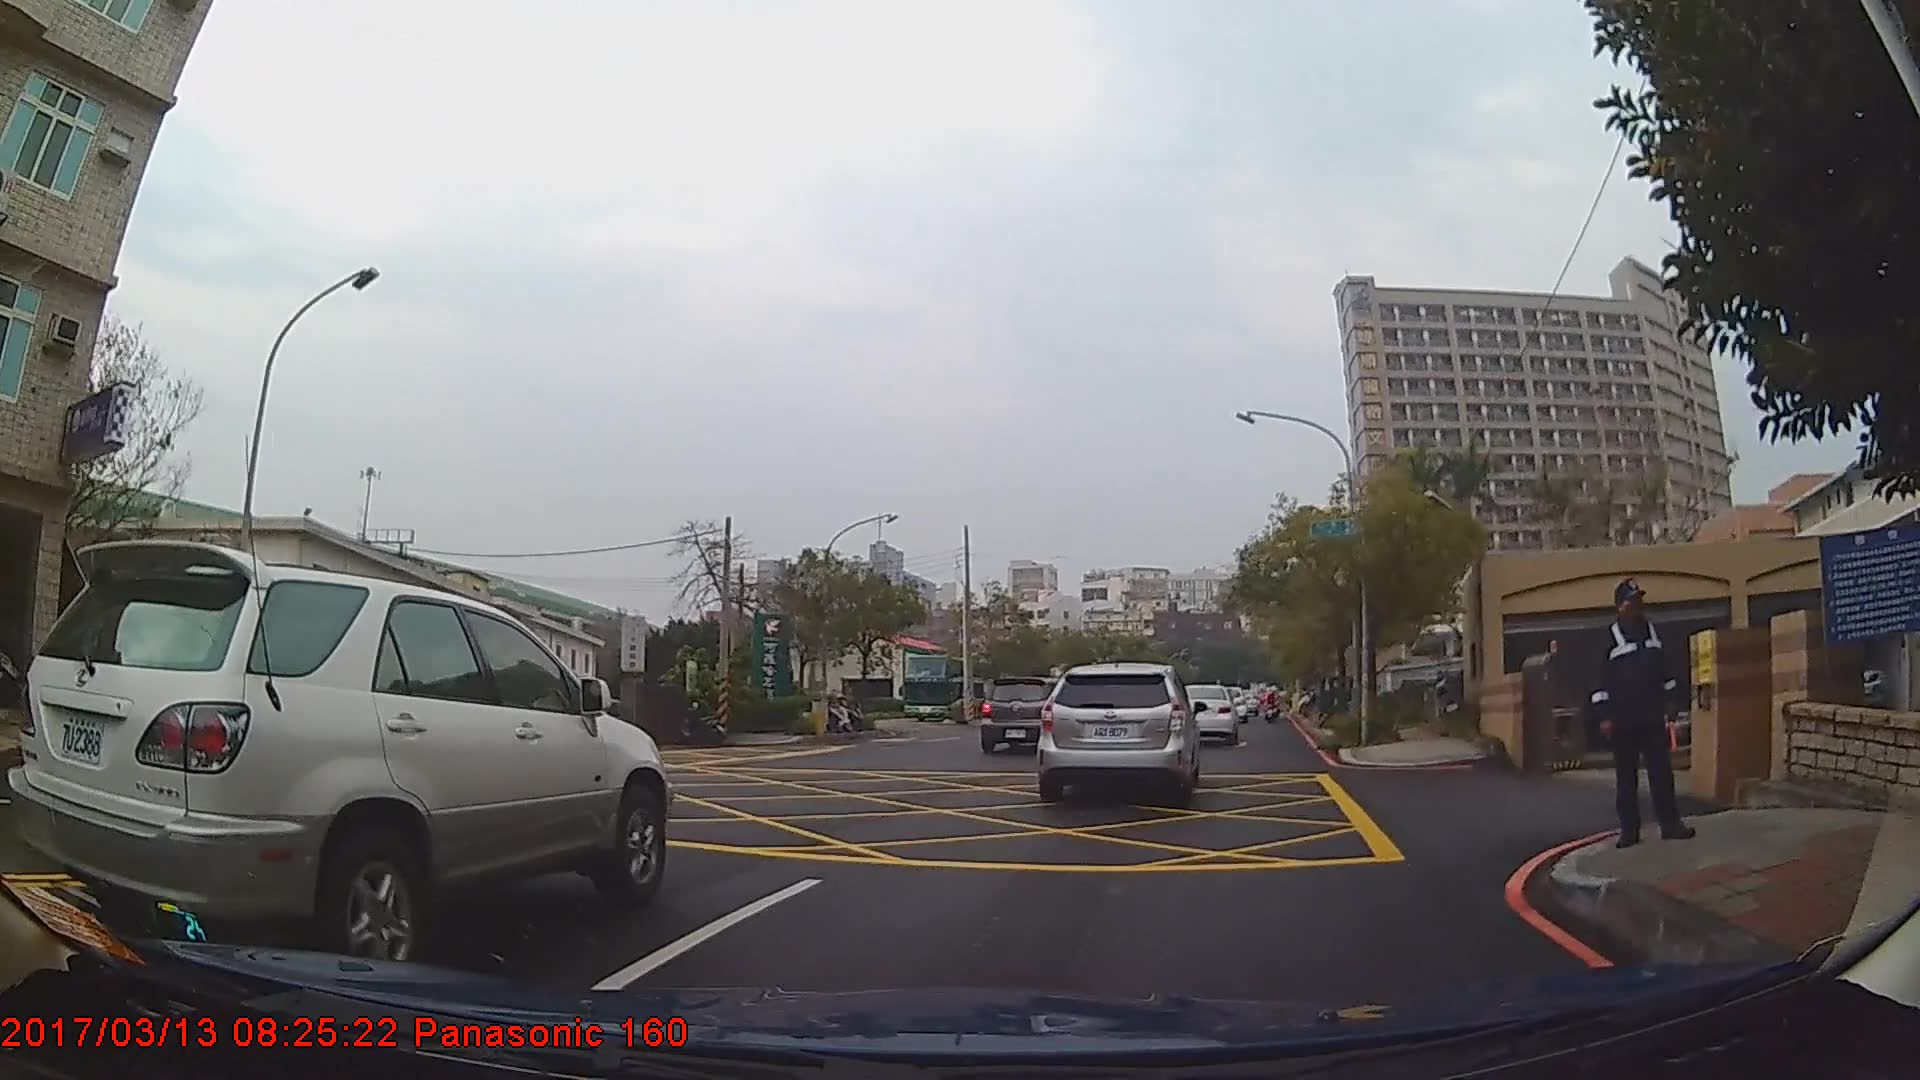pedestrian: (1600, 578, 1697, 852)
vehicle: (2, 540, 673, 974), (1035, 662, 1199, 807), (976, 680, 1078, 754), (898, 657, 998, 727), (1172, 687, 1239, 750)
